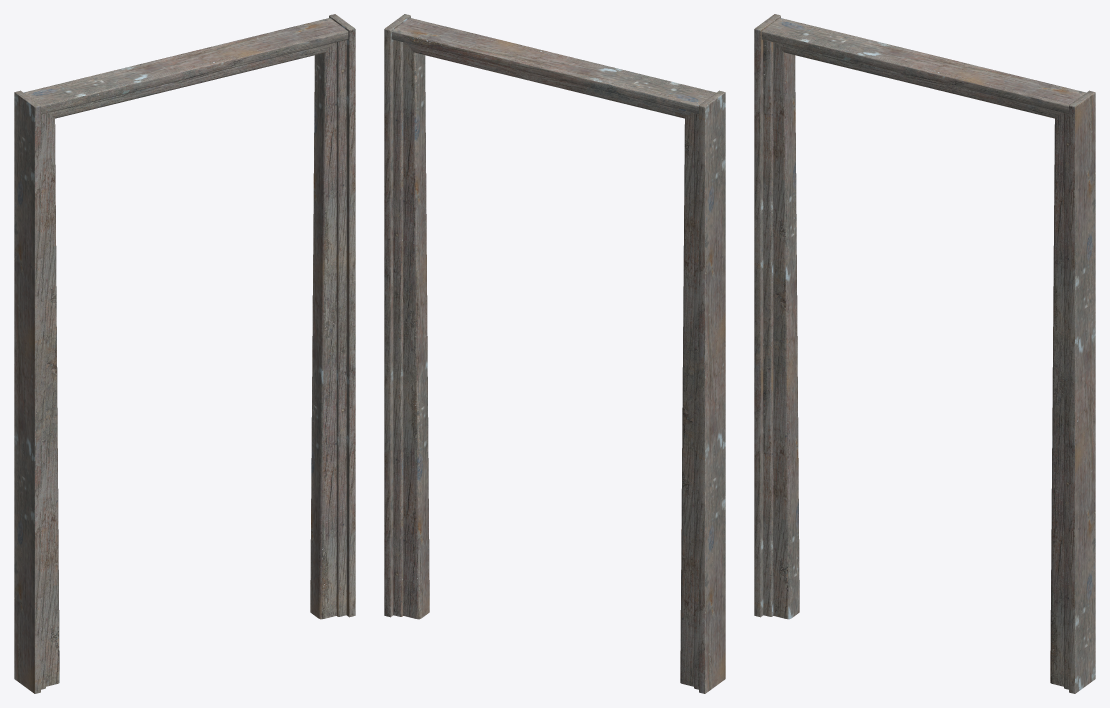
Rendered from WoodenDoorwayThin.FBX.
3 renders of one model, left to right at view 1: azimuth 30°, elevation 25°; view 2: azimuth 150°, elevation 25°; view 3: azimuth 330°, elevation 25°, orthographic.
Parts seen in each view (by area): view 1: Wooden_Doorway_thin; view 2: Wooden_Doorway_thin; view 3: Wooden_Doorway_thin.
Part boxes in pixels (x1=…): Wooden_Doorway_thin: x1=14, y1=14, x2=355, y2=693; Wooden_Doorway_thin: x1=384, y1=14, x2=725, y2=693; Wooden_Doorway_thin: x1=754, y1=14, x2=1095, y2=693.
Bounding box in the file's own units: 38.98 × 68.11 × 4.34.
